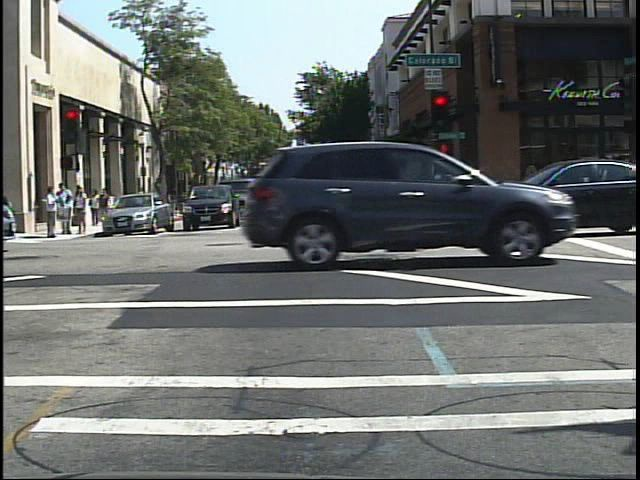person: (134, 183, 152, 218), (89, 186, 104, 228), (165, 182, 181, 218)
